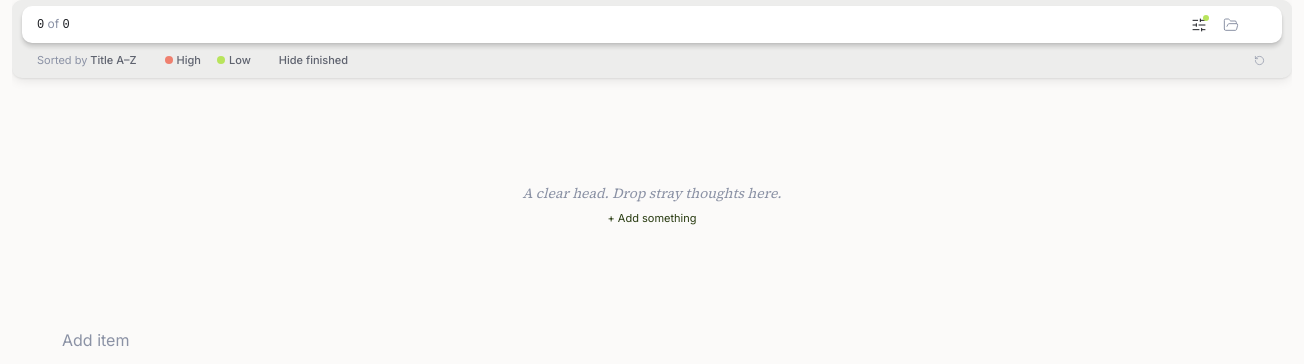
Test case: Reset display, at the end of the paragraph › keeps what the Goals switch is keeping, and the shelf still goes
The width and height of the screenshot is (1304, 364).
Click the button with test id "display-shelf-reset-braindump": {"x": 1259, "y": 60} [1251,51,1267,69]
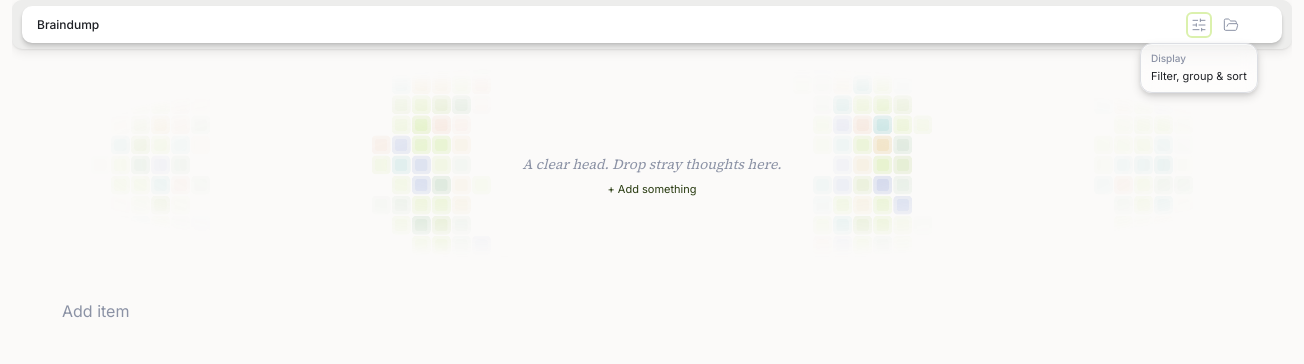
expect the element with test id "display-shelf-braindump" is gone: met
